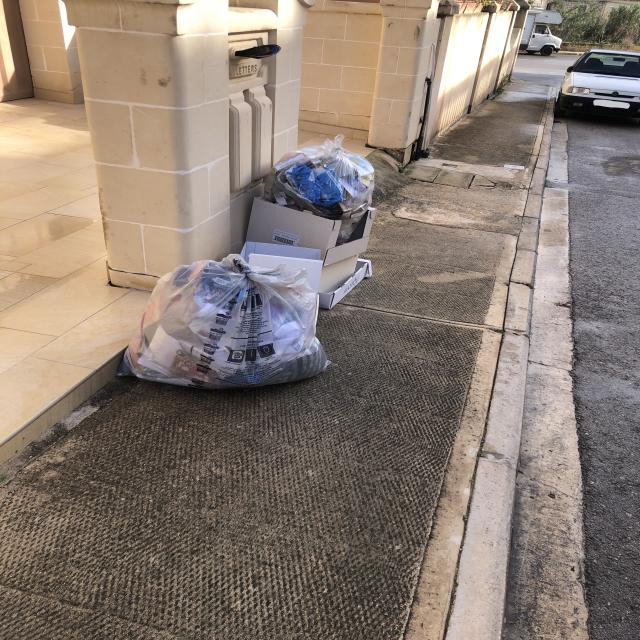Other: (245, 198, 379, 266), (240, 243, 324, 293), (318, 258, 374, 311)
Recycled Waste -Grey or Green Bag-: (118, 253, 336, 391), (264, 136, 377, 220)
